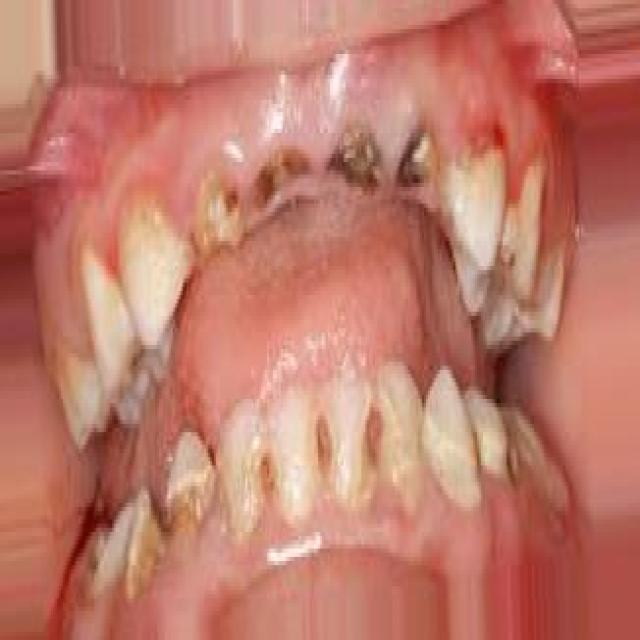caries: (318, 382, 372, 516), (179, 165, 246, 261), (327, 108, 388, 209), (215, 414, 263, 540), (482, 211, 530, 332), (264, 390, 307, 524), (394, 110, 446, 211), (247, 138, 316, 212), (499, 405, 550, 503), (122, 487, 168, 591), (165, 447, 206, 554)
